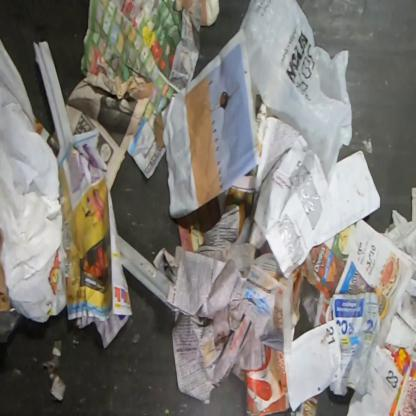cardboard: (245, 344, 290, 416)
soft_plastic: (239, 0, 353, 186), (0, 35, 68, 323)
